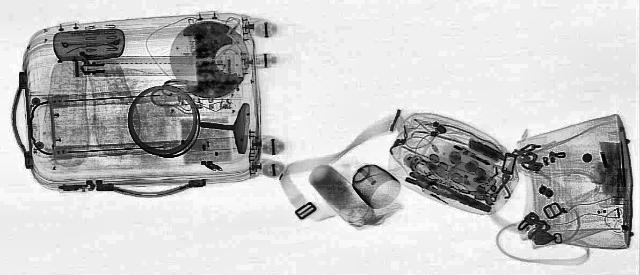Pliers: (395, 171, 499, 214)
